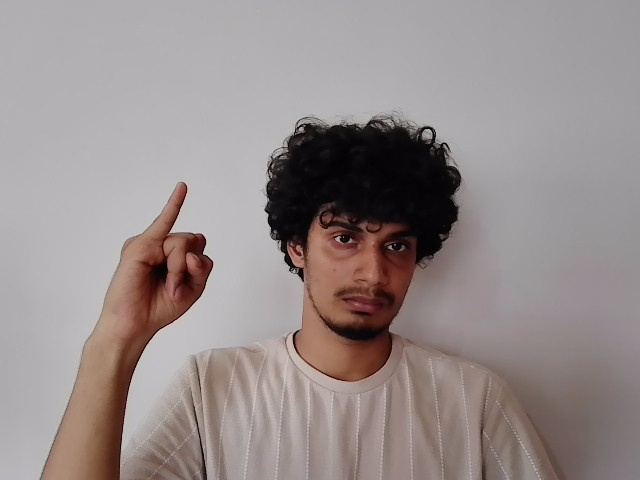bad: (97, 180, 216, 340)
